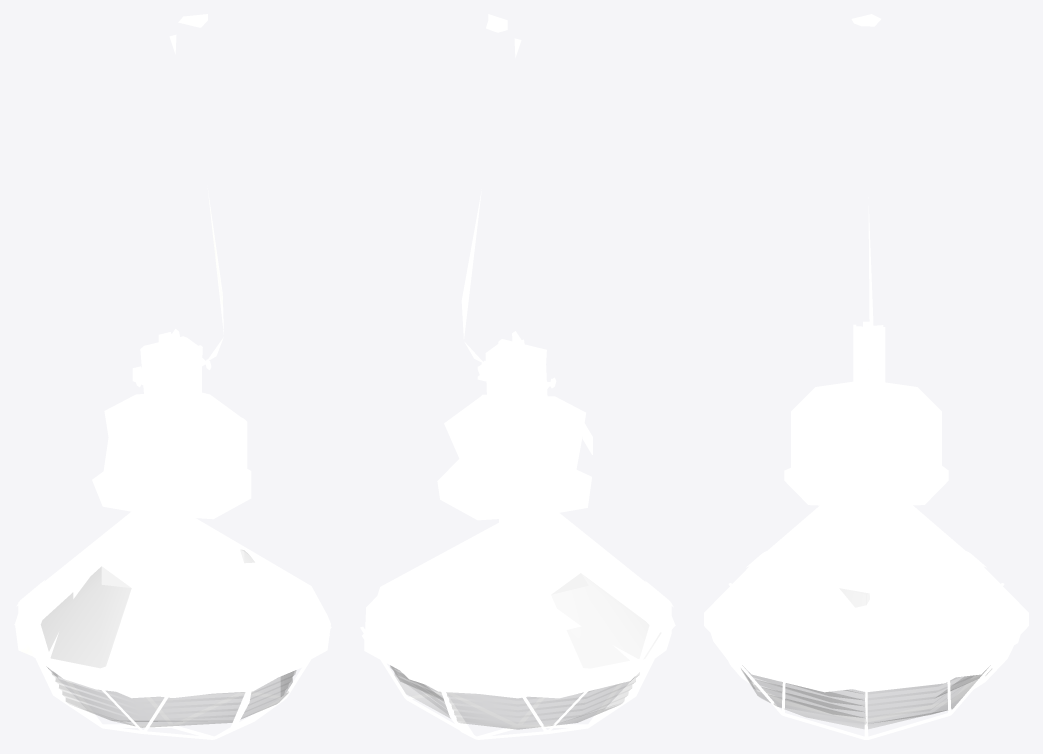
File: hang_lamp.glb
3 renders of one model, left to right at view 1: azimuth 30°, elevation 25°; view 2: azimuth 150°, elevation 25°; view 3: azimuth 270°, elevation 25°, orthographic. The views are drawn at different scales.
Visible parts, largest first — view 1: hang_lamp; view 2: hang_lamp; view 3: hang_lamp.
Boxes of the visible parts, left/top/right/bottom form: hang_lamp: left=14, top=14, right=331, bottom=739; hang_lamp: left=360, top=14, right=675, bottom=739; hang_lamp: left=704, top=14, right=1028, bottom=739.
Bounding box in the file's own units: 0.5462 × 1.34 × 0.5497.
2 materials, 1 textured.
